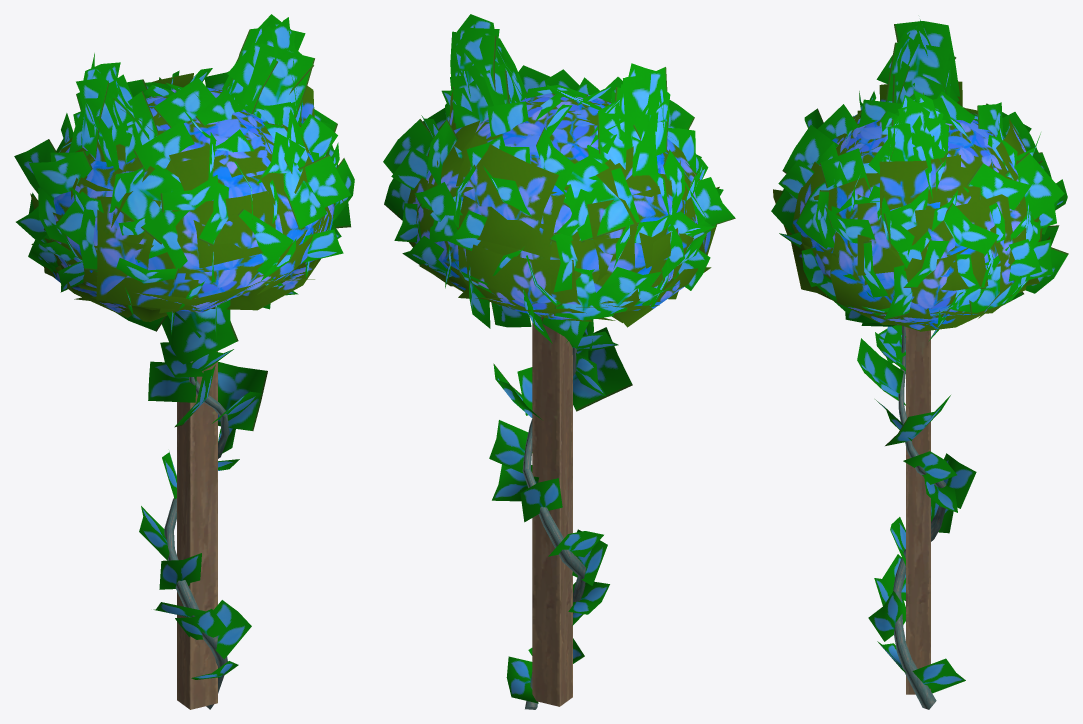
Rendered from Homeworld_Exterior_Common_Flower_Decoration_Green_02_Lod0.fbx.
3 views of the same model, side by side, from view 1: azimuth 30°, elevation 25°; view 2: azimuth 150°, elevation 25°; view 3: azimuth 270°, elevation 25° (orthographic). The views are drawn at different scales.
Visible parts, largest first — view 1: Homeworld_Exterior_Common_Flower_Decoration_Green_02_A_Lod0, Homeworld_Exterior_Common_Flower_Decoration_Green_02_B_Lod0; view 2: Homeworld_Exterior_Common_Flower_Decoration_Green_02_A_Lod0, Homeworld_Exterior_Common_Flower_Decoration_Green_02_B_Lod0; view 3: Homeworld_Exterior_Common_Flower_Decoration_Green_02_A_Lod0, Homeworld_Exterior_Common_Flower_Decoration_Green_02_B_Lod0.
Part boxes in pixels (x1,y1,x2,y2): Homeworld_Exterior_Common_Flower_Decoration_Green_02_A_Lod0: [14, 14, 354, 679]; Homeworld_Exterior_Common_Flower_Decoration_Green_02_B_Lod0: [164, 351, 229, 709]; Homeworld_Exterior_Common_Flower_Decoration_Green_02_A_Lod0: [383, 14, 735, 703]; Homeworld_Exterior_Common_Flower_Decoration_Green_02_B_Lod0: [522, 317, 585, 709]; Homeworld_Exterior_Common_Flower_Decoration_Green_02_A_Lod0: [771, 19, 1068, 693]; Homeworld_Exterior_Common_Flower_Decoration_Green_02_B_Lod0: [893, 325, 946, 709].
Bounding box in the file's own units: 0.8633 × 1.89 × 0.8103.
